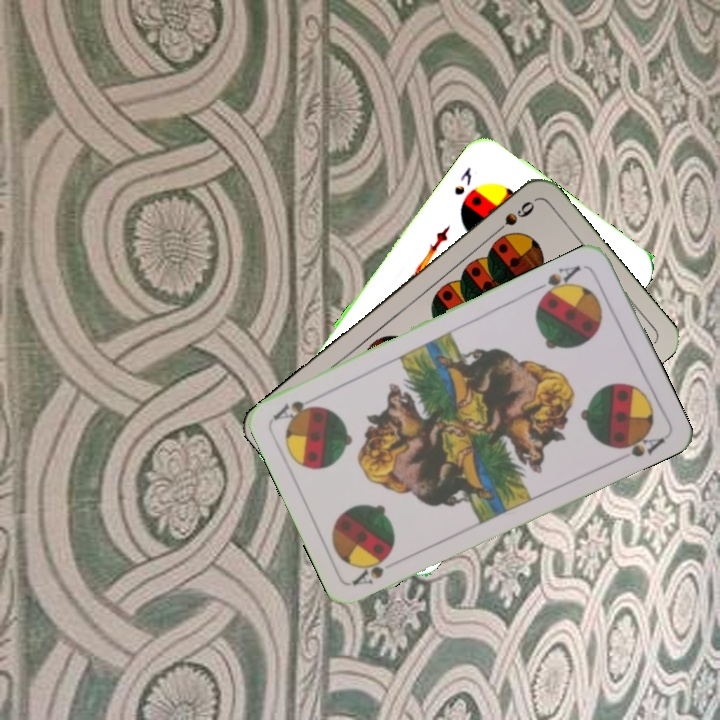S9: (488, 197, 538, 239)
SA: (531, 261, 583, 303), (349, 549, 395, 588)
SK: (450, 162, 475, 198)
